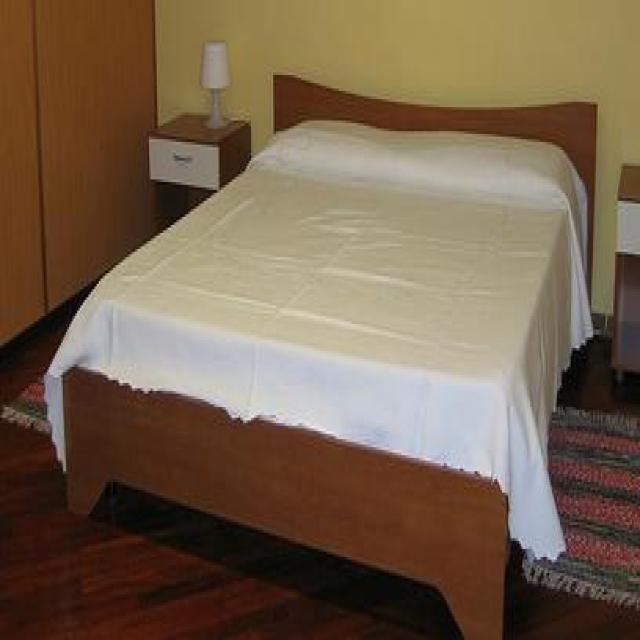bed: (60, 68, 600, 640)
